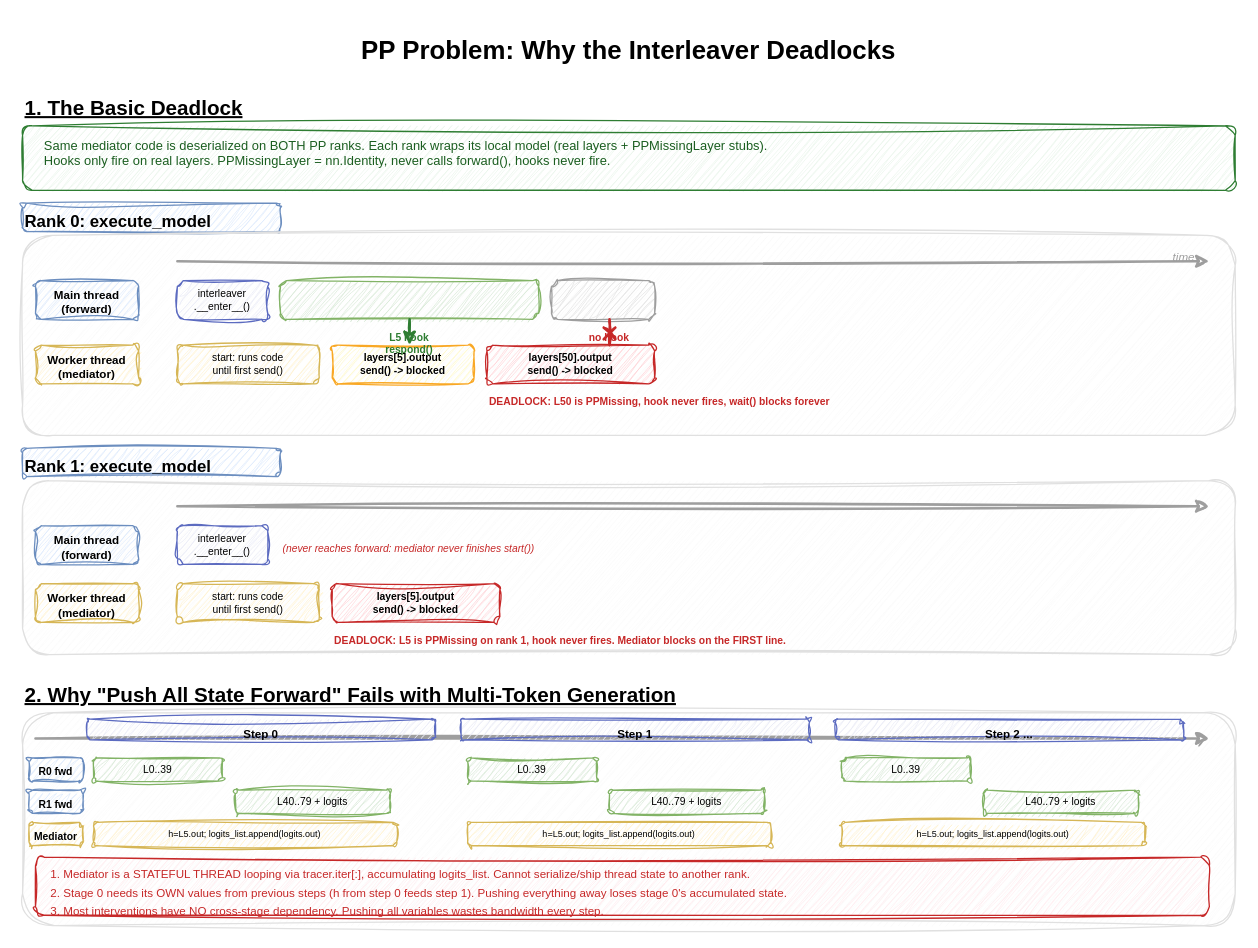
Image size: 1258x948. Some labels were removed from this diagram. The shapes that lost their labels are listed below. From the top down, each one's box as (x1, y1, x2, y2) in pixels, then its label:
(279, 279, 539, 319): forward: L0 .. L5 .. L39
(550, 279, 655, 319): forward done
